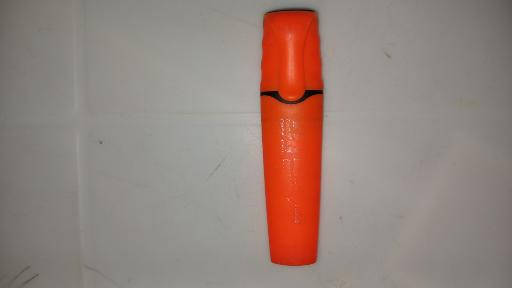Highlighter: (262, 10, 324, 264)
